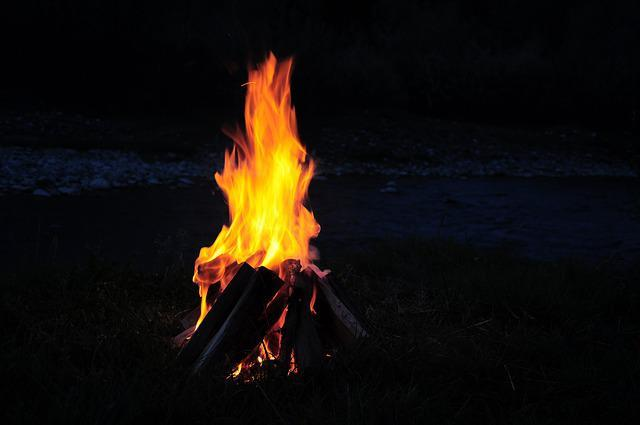fire: (187, 48, 322, 279)
